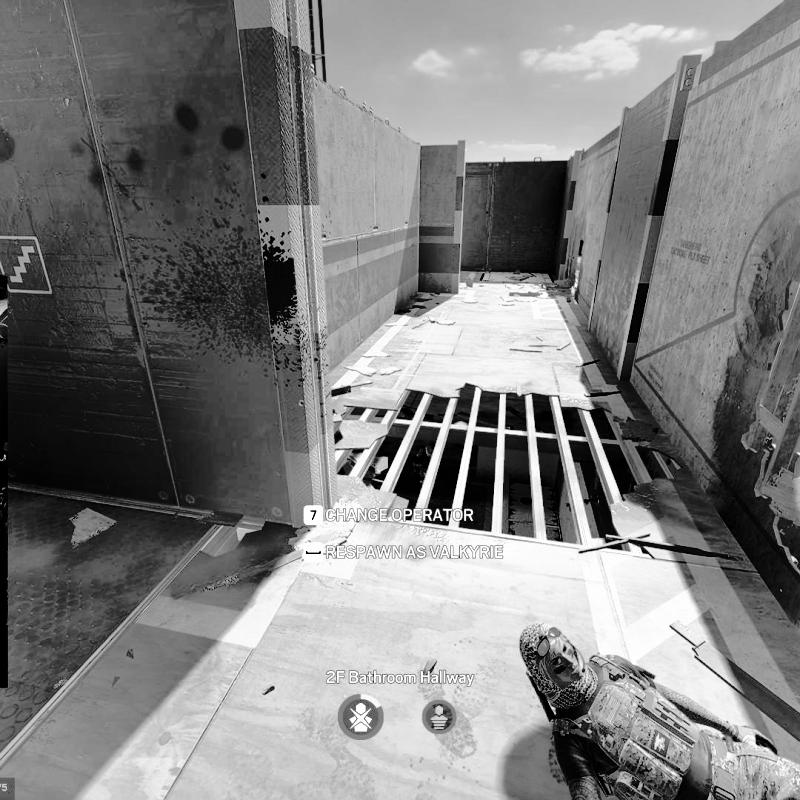Character: (513, 616, 799, 800), (408, 444, 435, 488)
Head: (517, 621, 589, 696)
